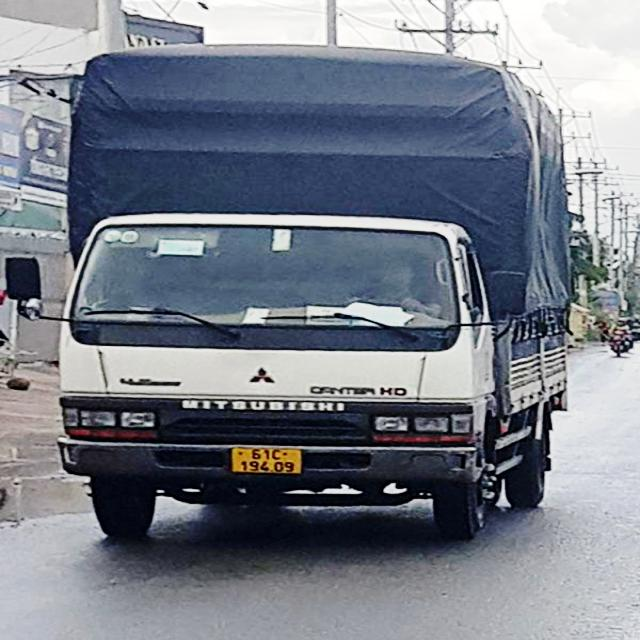license_plate: (234, 449, 302, 475)
